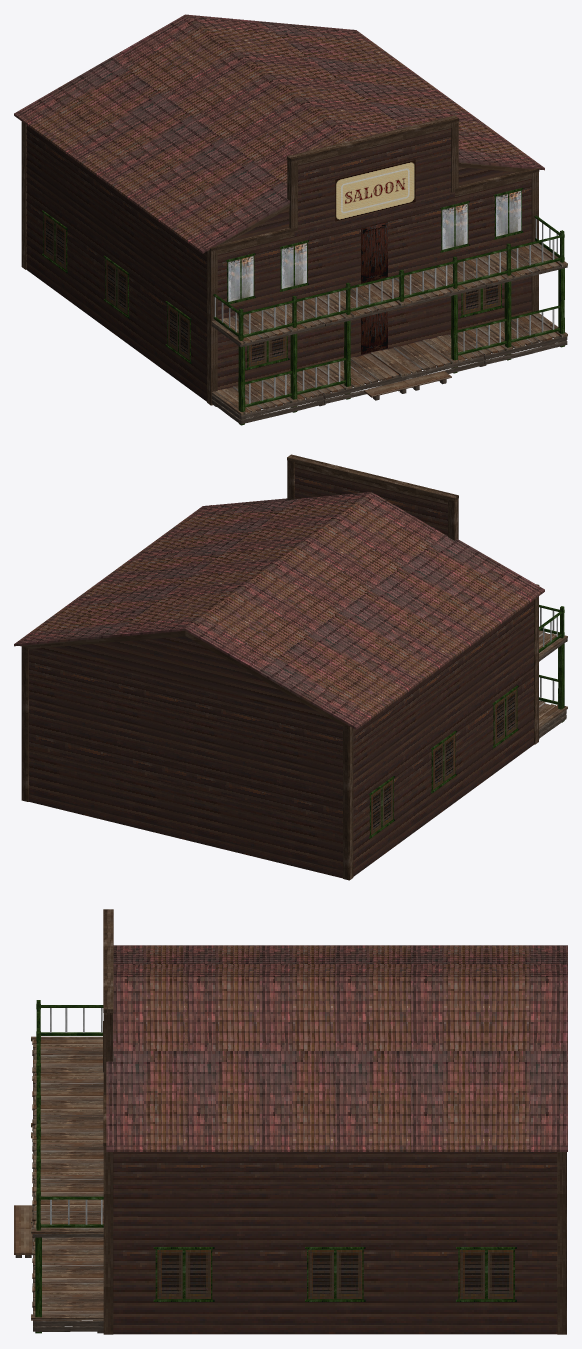
File: Saloon_Building.fbx
3 views of the same model, one above another, from view 1: azimuth 30°, elevation 25°; view 2: azimuth 150°, elevation 25°; view 3: azimuth 270°, elevation 25° (orthographic). The views are drawn at different scales.
Visible parts, largest first — view 1: Saloon_Building; view 2: Saloon_Building; view 3: Saloon_Building.
Boxes of the visible parts, box(x1,y1,x2,y2) form: Saloon_Building: box(14, 14, 567, 425); Saloon_Building: box(14, 454, 567, 880); Saloon_Building: box(14, 909, 567, 1334).
Bounding box in the file's own units: 1279 × 810 × 1465.
Materials: 11 (11 with a texture image).
